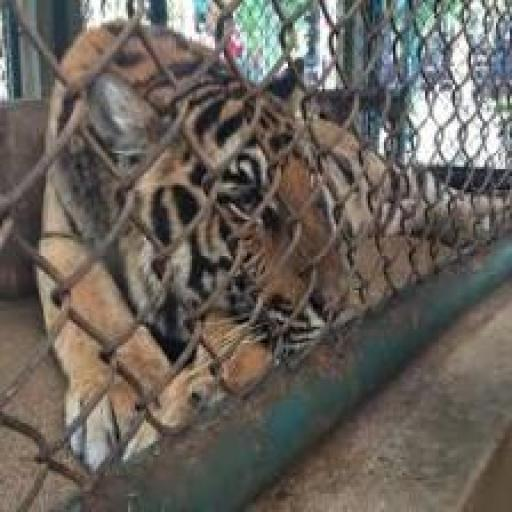Tiger: (36, 11, 512, 476)
